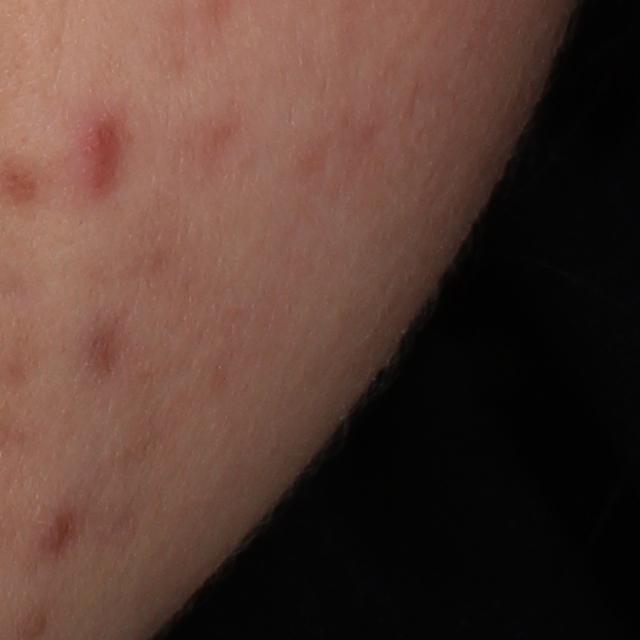papule: (75, 113, 128, 191), (37, 512, 72, 553)
